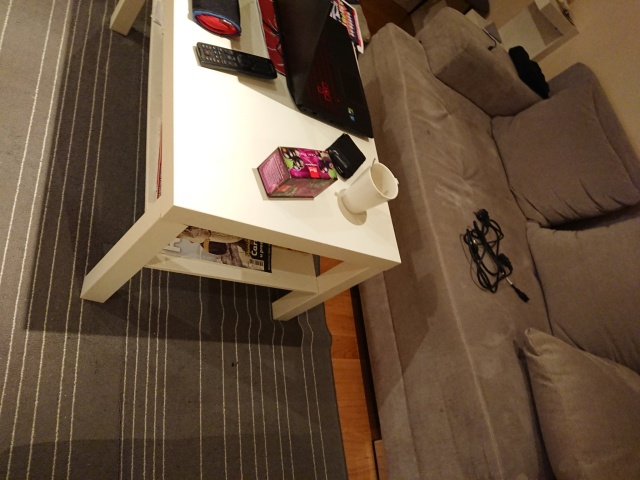Franck Black Currant Tea 60g: (255, 144, 340, 201)
